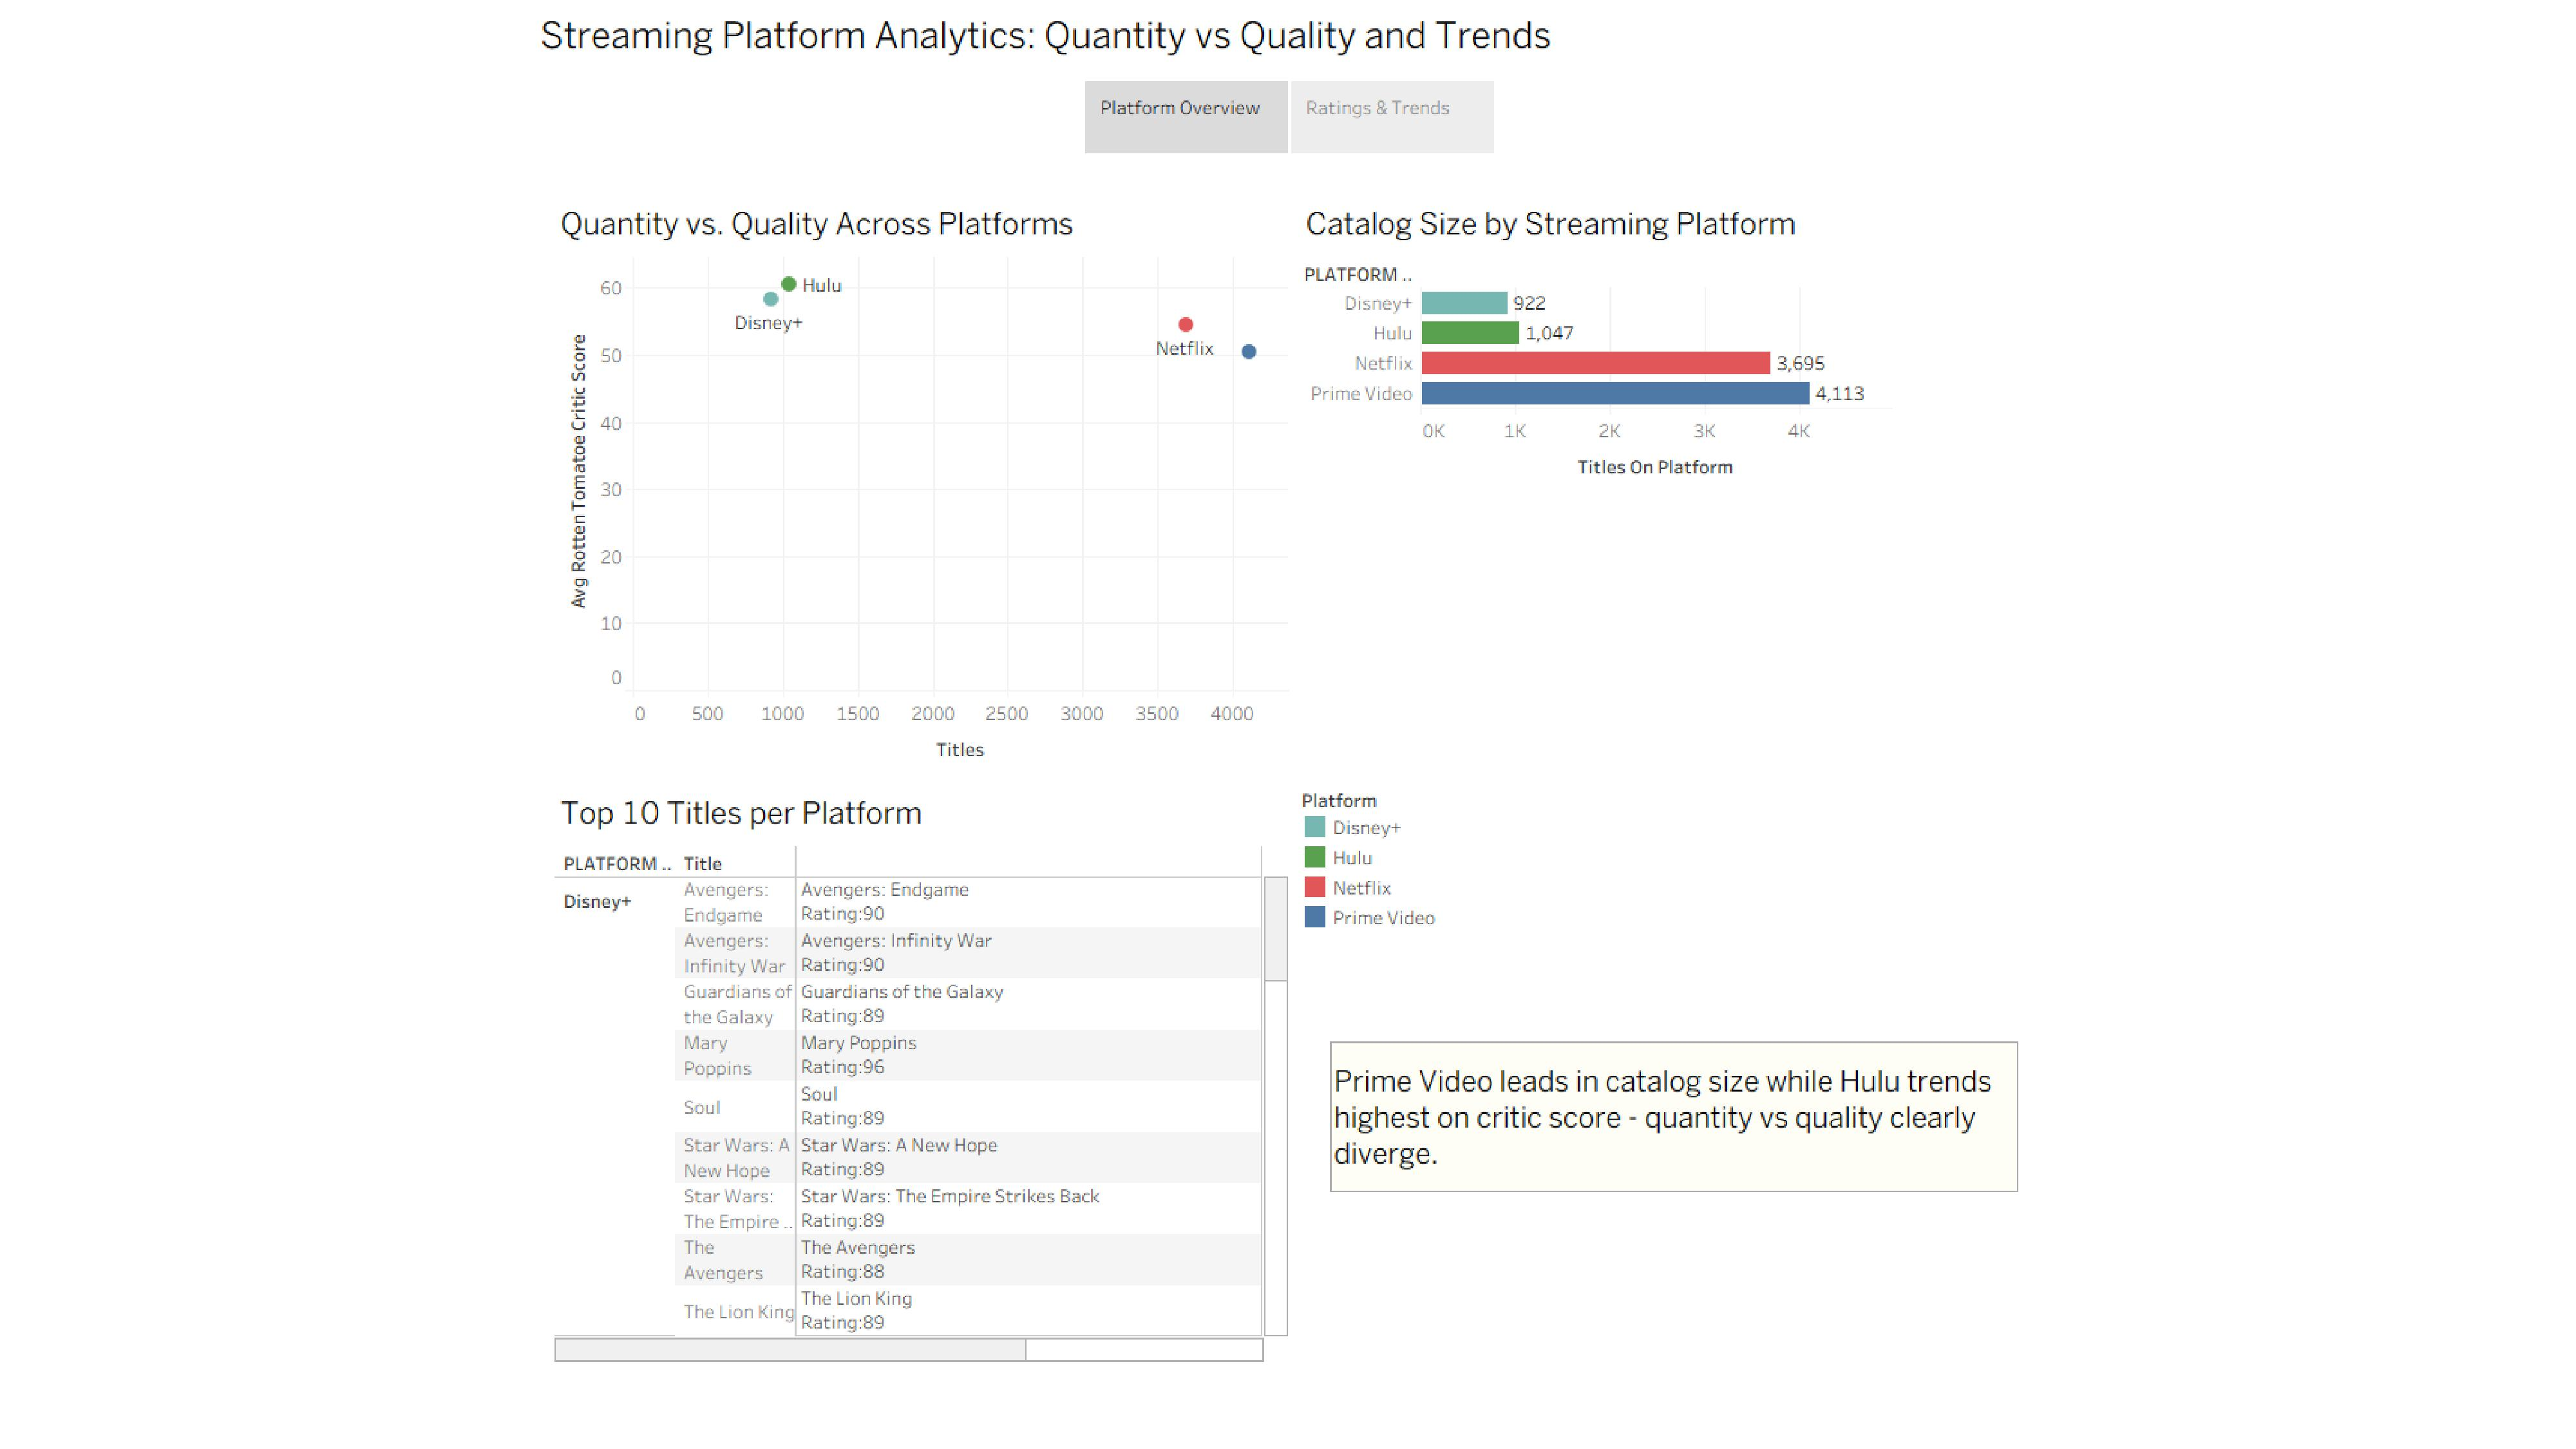

The dashboard page shown, as its layout file describes it:
{"tool":"tableau","page":{"name":"Platform Overview","canvas":[1000,800],"ordinal":0},"visuals":[{"type":"worksheet","title":"Quantity vs Quality","mark":"Circle","rows":["AVG_RT_CRITIC"],"cols":["N_TITLES"],"box":[8,8,496.1,392]},{"type":"worksheet","title":"Titles per Platform","mark":"Bar","rows":["PLATFORM (titles_per_platform.csv)"],"cols":["TITLES_ON_PLATFORM"],"box":[504.1,8,487.9,392]},{"type":"worksheet","title":"Top 10 Titles","mark":"Text","rows":["PLATFORM (top10_by_platform.csv)","TITLE"],"box":[8,400,496.1,392]},{"type":"legend","title":"Titles per Platform","param":"[federated.0nvil680hxj7291b6efyn0hcqh0q].[none:PLATFORM (top10_by_platform.csv):","box":[504.1,400,487.9,392]}]}

Visuals, with their boxes on the page's 1000x800 design canvas (x1, y1, x2, y2). These are canvas units, not pixel positions in the 2576x1449 screenshot, which may show the page scaled, cropped or inside an application window:
"Quantity vs Quality" worksheet (Circle marks): x1=8, y1=8, x2=504, y2=400
"Titles per Platform" worksheet (Bar marks): x1=504, y1=8, x2=992, y2=400
"Top 10 Titles" worksheet (Text marks): x1=8, y1=400, x2=504, y2=792
"Titles per Platform" legend: x1=504, y1=400, x2=992, y2=792
